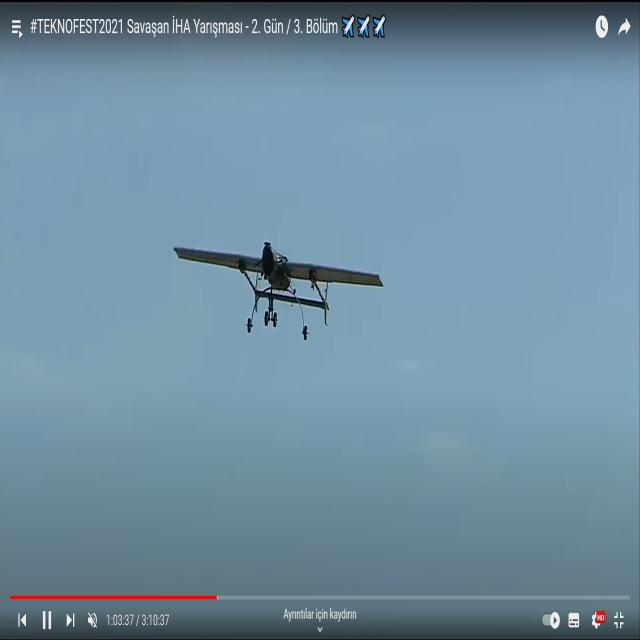iha: (172, 273, 384, 308)
